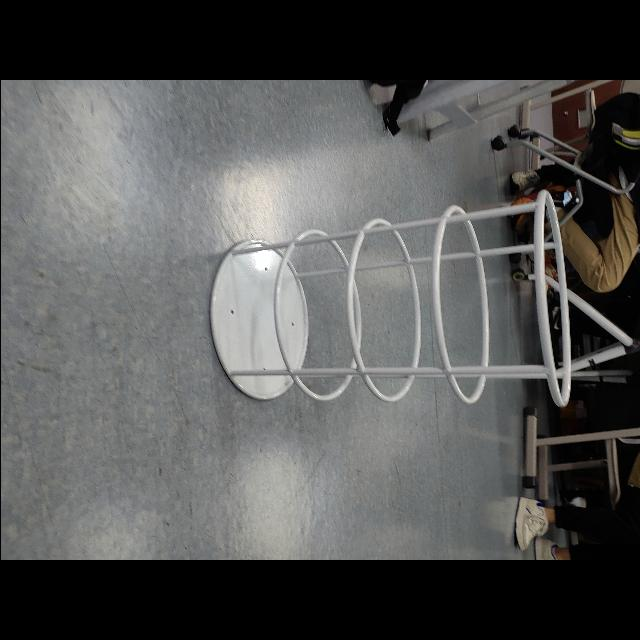S: (201, 186, 574, 410)
